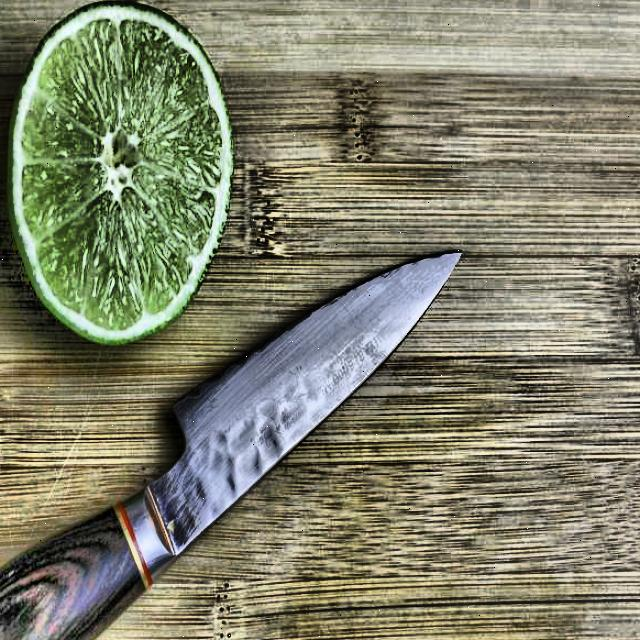knife: (0, 247, 465, 640)
